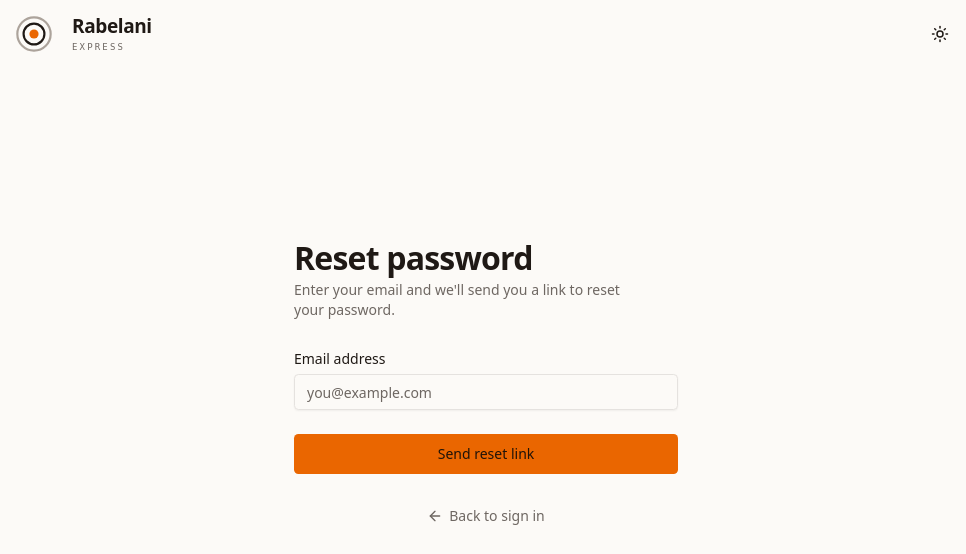
Test: ResetPassword — request mode (integration) › validates the email before sending
The image size is (966, 554).
Type "oops" into the field labelled "Email address" at (486, 392), box [294,374,678,410]
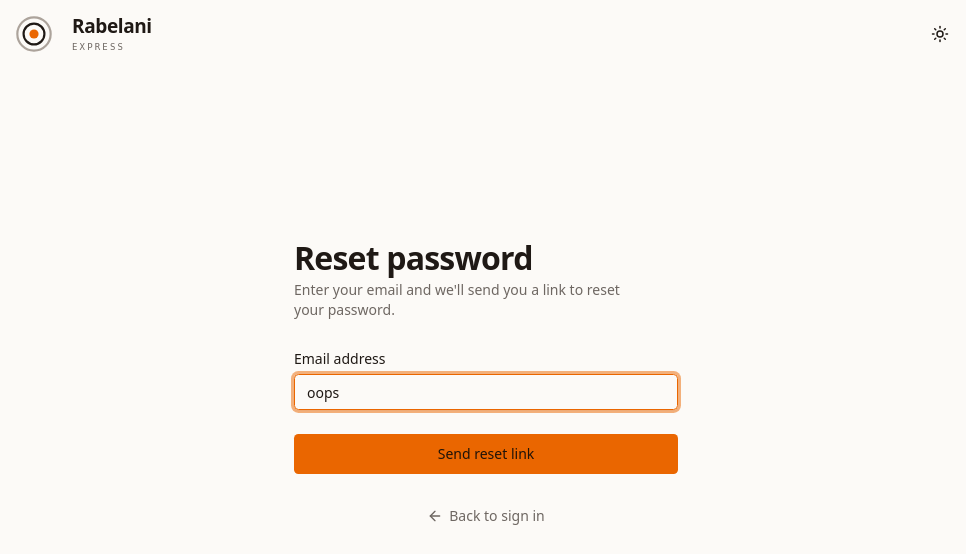
Click the button "Send reset link" at (486, 454), box [294,434,678,474]
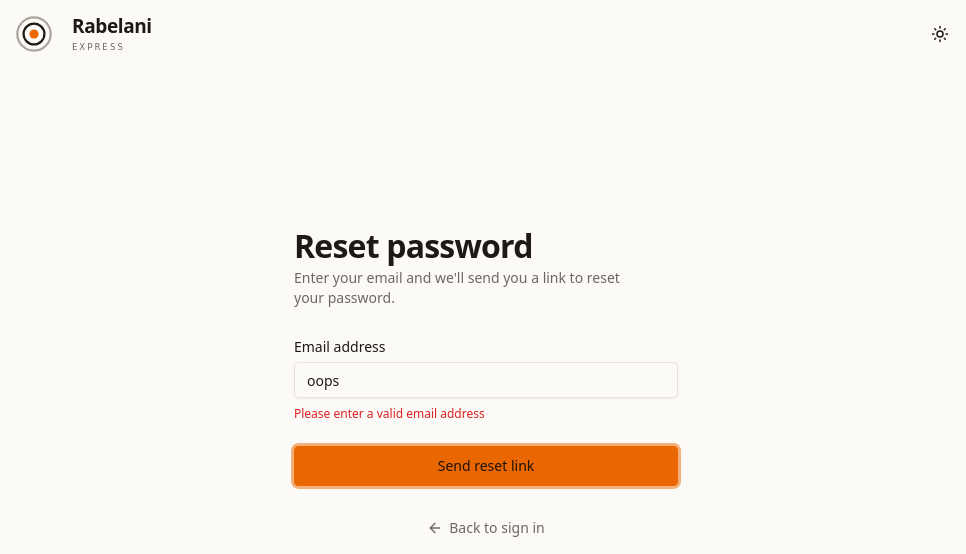
Check: the text "Please enter a valid email address" is shown, box [294,405,485,422]
